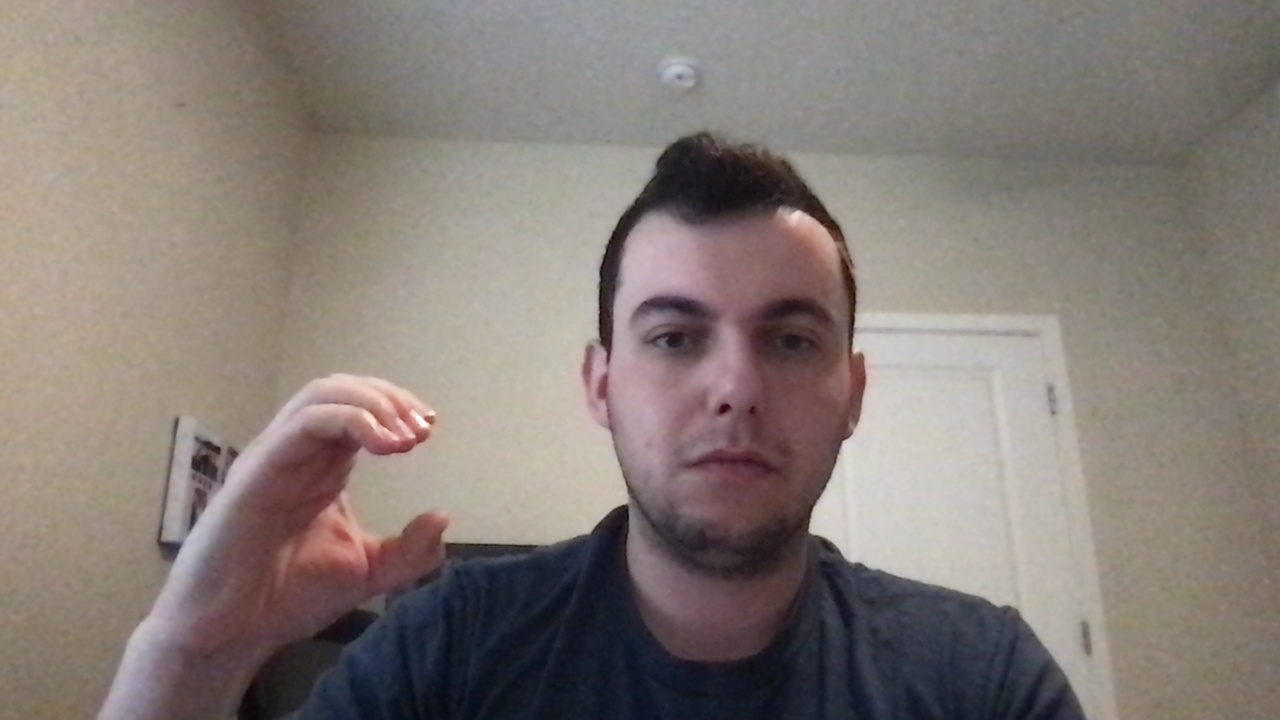c: (147, 370, 474, 628)
